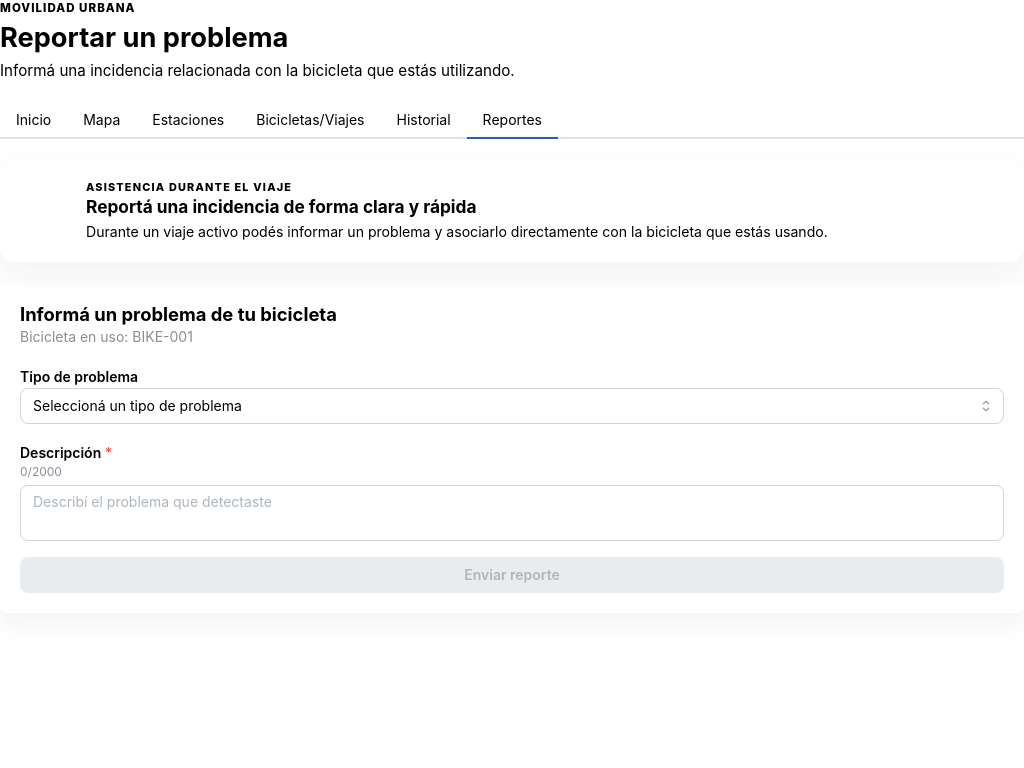
Scenario: ReportsPage › sugiere la estación disponible más cercana y confirma la devolución
This screenshot has width=1024, height=768.
Select "Pinchazo" in the dropdown labelled "Tipo de problema" at [512, 406], box [20,388,1004,424]
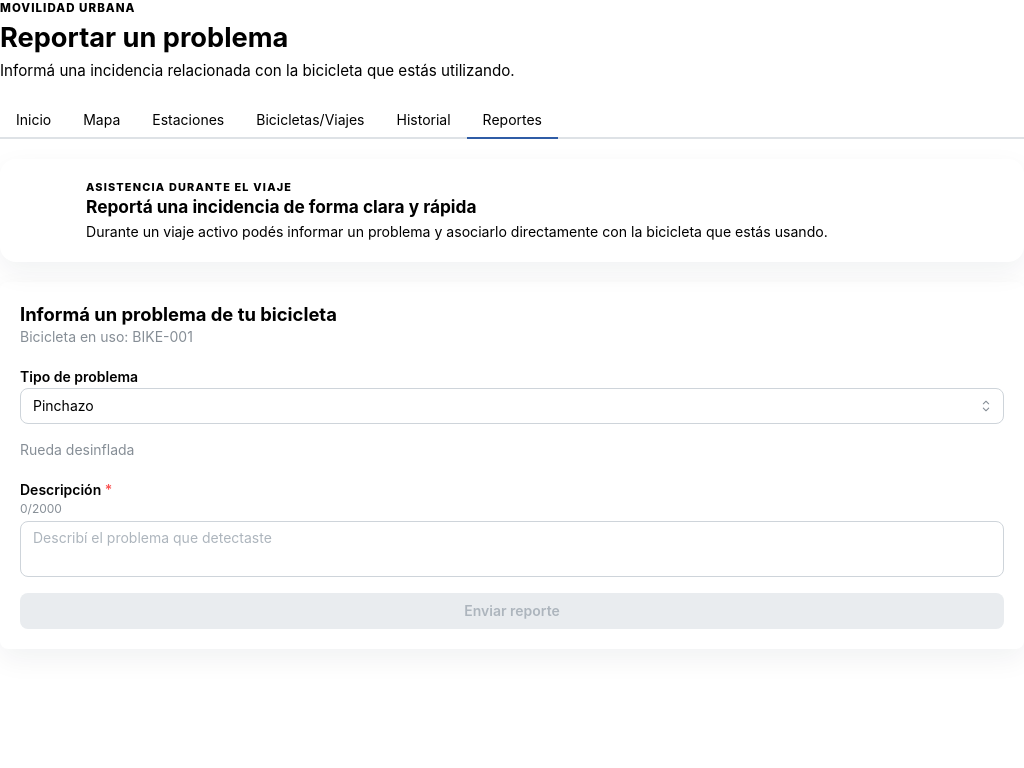
Type "Rueda desinflada" into the text box labelled "Descripción" at [512, 549], box [20,521,1004,577]
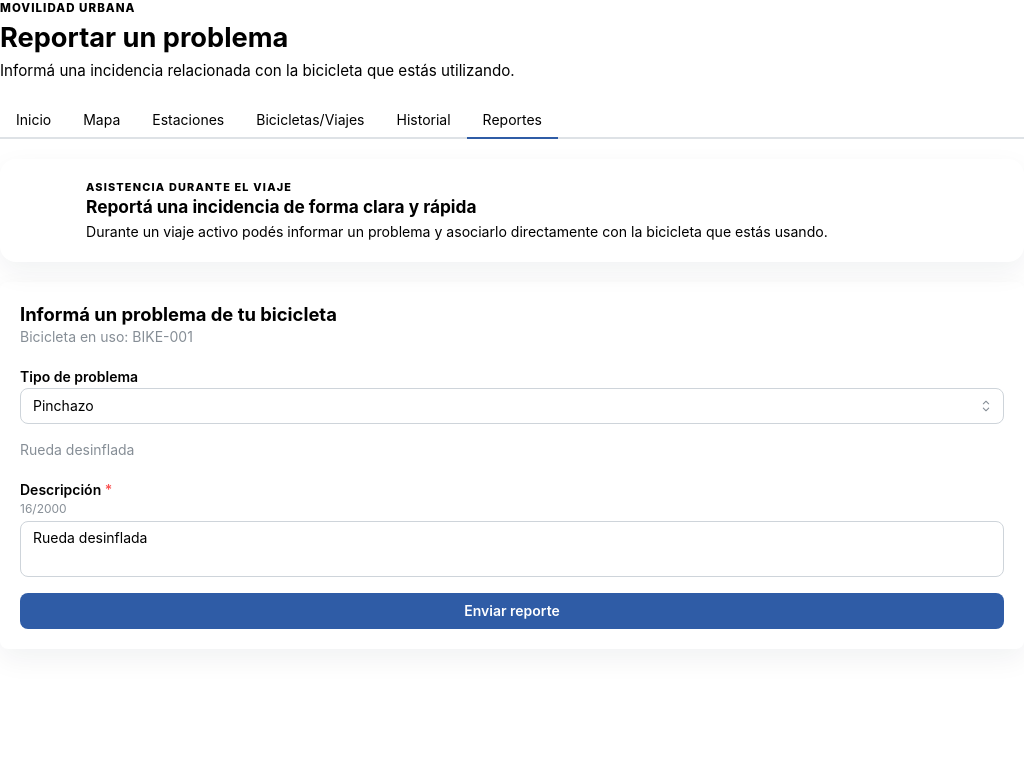
Click the button "Enviar reporte" at [512, 611], box [20,593,1004,629]
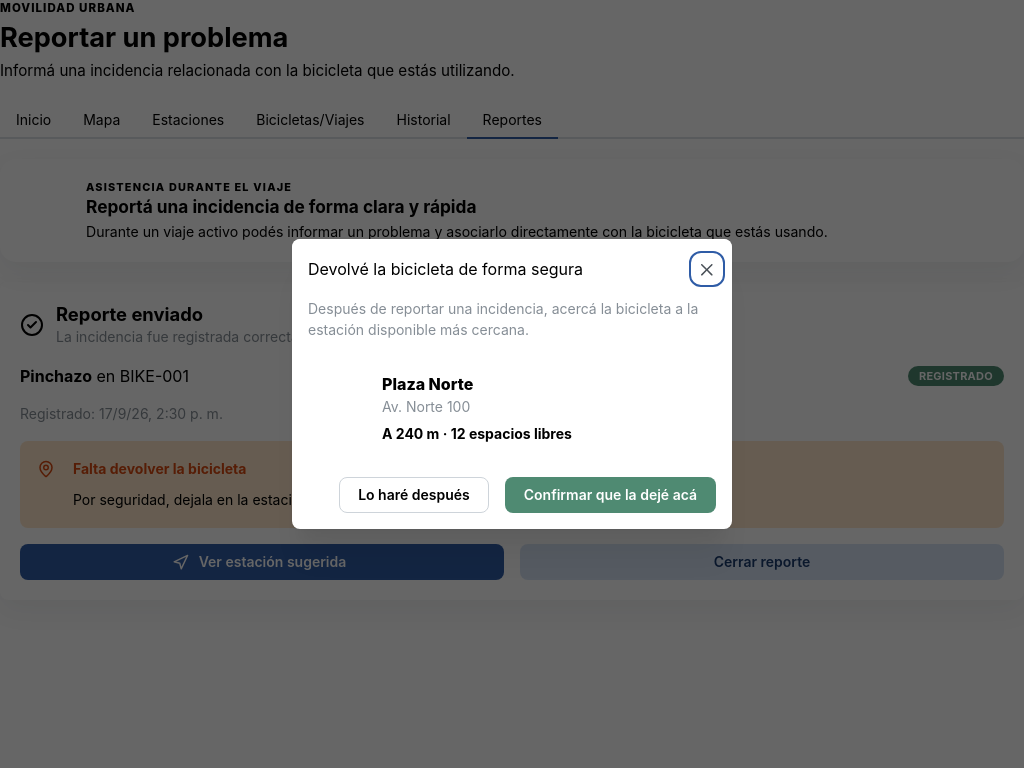
expect the text "A 240 m · 12 espacios libres" is shown: met, box [382,424,572,445]
Click the button "Confirmar que la dejé acá" at [610, 495], box [505,477,716,513]
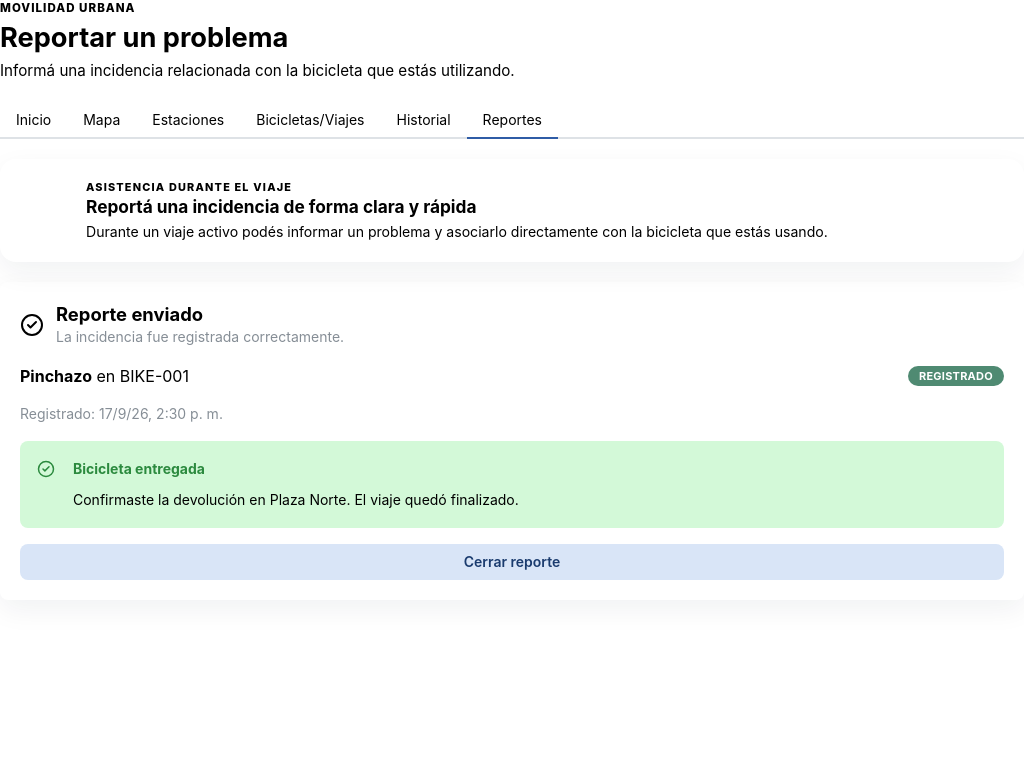
expect the text "Confirmaste la devolución en Plaza Norte. El viaje quedó finalizado." is shown: met, box [73,491,519,508]
